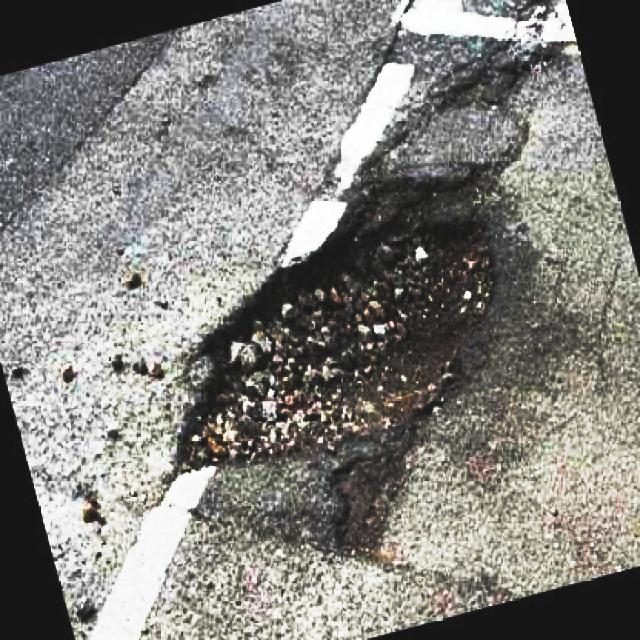pothole: (162, 158, 506, 557)
